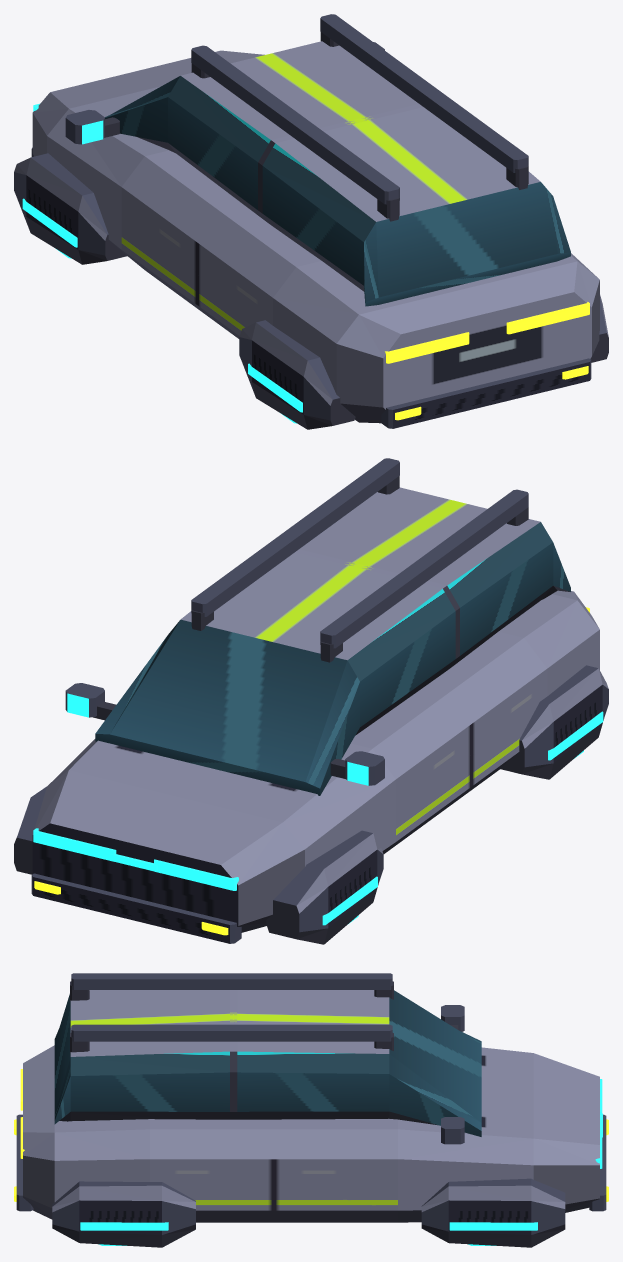
The model's file is graphite_crossover.glb.
The picture shows the model from 3 angles, top to bottom: view 1: azimuth 30°, elevation 25°; view 2: azimuth 150°, elevation 25°; view 3: azimuth 270°, elevation 25°; orthographic projection. The views are drawn at different scales.
Parts seen in each view (by area): view 1: hull, cab_glazing, rear_pod_l, front_pod_l, roof_rail, roof_rail.001, bumper, mirror, rear_lens, rear_lens.001, induction_strip.001, induction_strip (+1 smaller); view 2: cab_glazing, hull, front_pod_l, rear_pod_l, roof_rail, roof_rail.001, bumper.001, front_pod_r, mirror, mirror.001, headlamp, headlamp.001; view 3: hull, cab_glazing, front_pod_r, rear_pod_r, roof_rail.001, roof_rail, induction_strip.002, induction_strip.003, bumper, bumper.001, mirror.001, mirror.
Part boxes in pixels (box(x1,y1,x2,y2)): hull: box(32, 50, 599, 423); cab_glazing: box(105, 41, 570, 306); rear_pod_l: box(239, 320, 355, 429); front_pod_l: box(14, 153, 127, 264); roof_rail: box(191, 45, 399, 204); roof_rail.001: box(320, 14, 528, 172); bumper: box(381, 358, 591, 428); mirror: box(65, 110, 104, 144); rear_lens: box(385, 332, 469, 363); rear_lens.001: box(506, 302, 589, 334); induction_strip.001: box(22, 198, 77, 247); induction_strip: box(248, 363, 302, 412); cab_glazing: box(95, 487, 570, 795); hull: box(32, 590, 599, 932); front_pod_l: box(266, 830, 383, 944); rear_pod_l: box(500, 665, 608, 779); roof_rail: box(320, 489, 528, 648); roof_rail.001: box(191, 458, 399, 616); bumper.001: box(31, 873, 241, 943); front_pod_r: box(14, 786, 46, 874); mirror: box(345, 751, 384, 785); mirror.001: box(65, 683, 104, 717); headlamp: box(154, 859, 238, 890); headlamp.001: box(33, 828, 116, 860); hull: box(23, 1045, 599, 1222); cab_glazing: box(54, 990, 481, 1136); front_pod_r: box(421, 1178, 565, 1247); rear_pod_r: box(52, 1181, 195, 1247); roof_rail.001: box(71, 1024, 392, 1041); roof_rail: box(71, 973, 392, 989); induction_strip.002: box(80, 1222, 168, 1230); induction_strip.003: box(449, 1222, 537, 1230); bumper: box(16, 1114, 33, 1211); bumper.001: box(589, 1114, 606, 1211); mirror.001: box(441, 1117, 464, 1144); mirror: box(441, 1005, 464, 1031).
Size of the model in its own units: 2.22 by 1.57 by 4.52.
3 materials, 3 textured.
